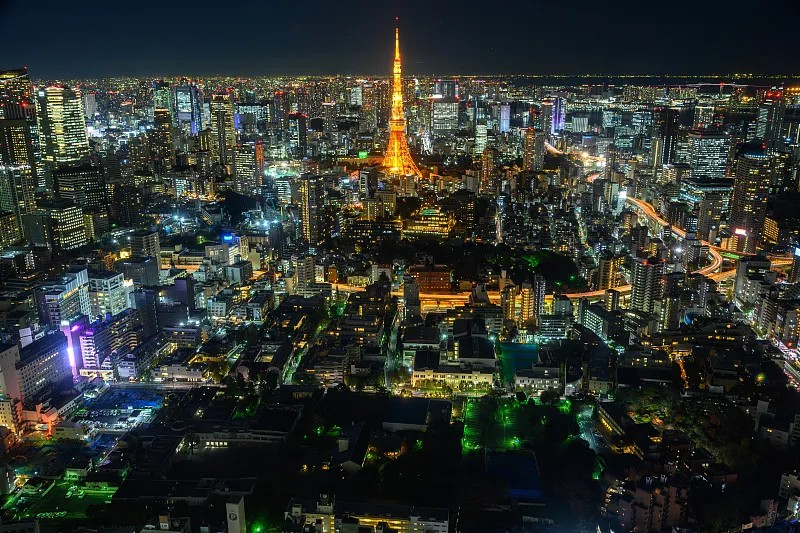Tokyo: (380, 13, 422, 178)
